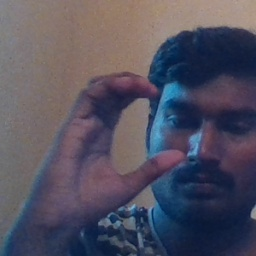C: (68, 60, 184, 200)
